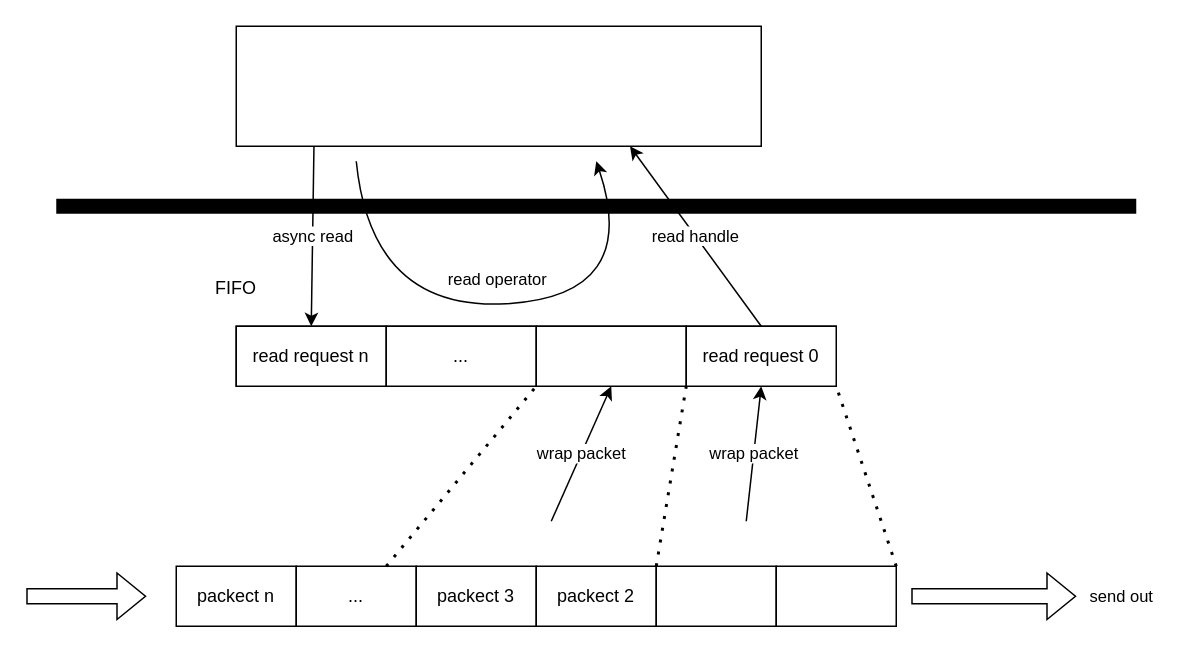
The diagram is 1178 pixels wide and 653 high, and some of its shapes have lost their labels. The shapes that lost their labels are listed below. From the top down, each one's centre as x and y in pixels, then its label:
(x=498, y=85): aTrustTunnel
(x=610, y=355): read request 1
(x=715, y=595): packect 1
(x=835, y=595): packect 0
